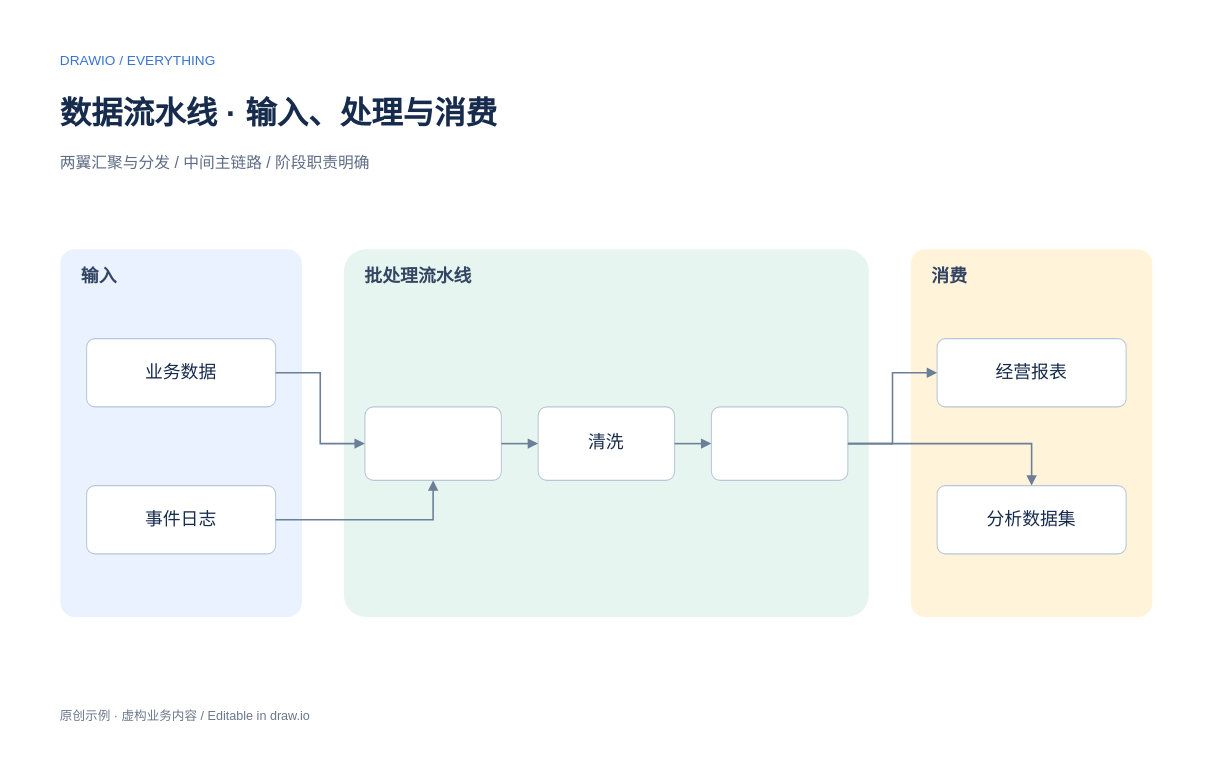
Image size: 1212x771. Some labels were removed from this diagram. The centre of each missing label's shape, as x and y in pixels:
"抽取" belongs at (432,443).
"汇总" belongs at (779,443).
